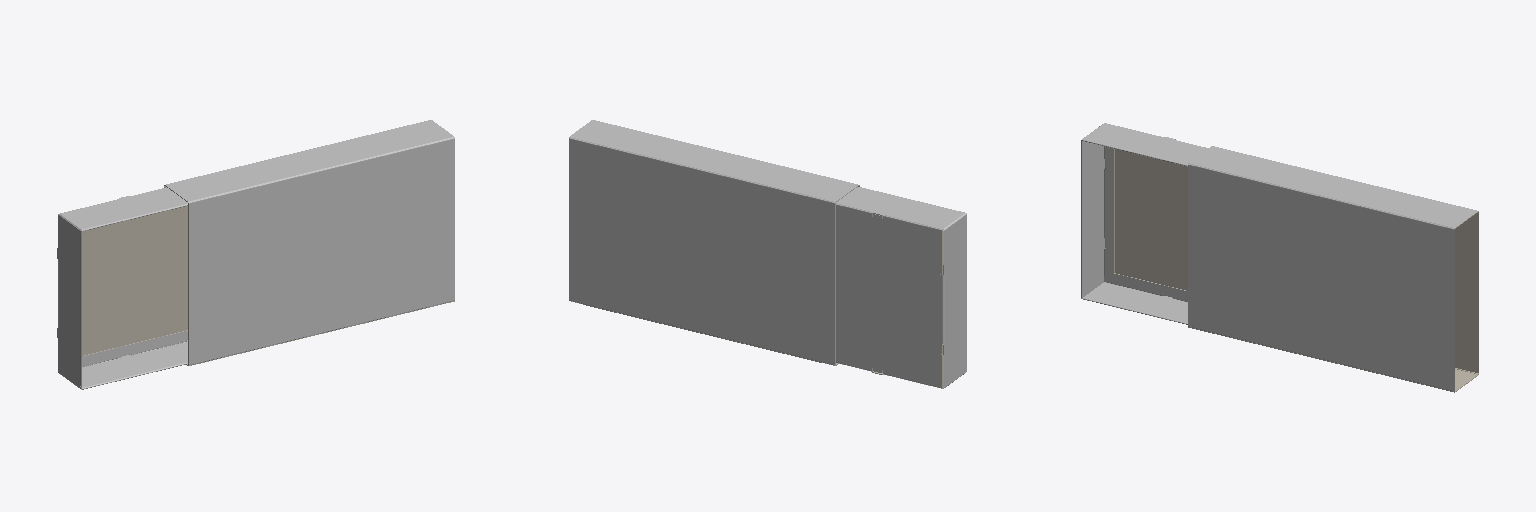
Rendered from COMIDA_SUSHI_RICARDO_RIVET.obj.
The picture shows the model from 3 angles: view 1: azimuth 30°, elevation 25°; view 2: azimuth 150°, elevation 25°; view 3: azimuth 330°, elevation 25°; orthographic projection.
Parts seen in each view (by area): view 1: Mesh61, Mesh2, Mesh58, Mesh43, Mesh19, Mesh37, Mesh40; view 2: Mesh52, Mesh, Mesh58, Mesh43, Mesh19; view 3: Mesh61, Mesh2, Mesh58, Mesh53, Mesh46, Mesh19, Mesh37, Mesh49, Mesh40.
Part boxes in pixels (bbox=[...]): Mesh61: bbox=[189, 138, 454, 364]; Mesh2: bbox=[82, 206, 187, 356]; Mesh58: bbox=[166, 120, 454, 202]; Mesh43: bbox=[57, 218, 81, 388]; Mesh19: bbox=[59, 187, 187, 230]; Mesh37: bbox=[81, 340, 187, 389]; Mesh40: bbox=[82, 331, 187, 366]; Mesh52: bbox=[569, 138, 834, 365]; Mesh: bbox=[836, 204, 943, 387]; Mesh58: bbox=[569, 120, 857, 202]; Mesh43: bbox=[944, 217, 966, 385]; Mesh19: bbox=[836, 187, 965, 229]; Mesh61: bbox=[1188, 164, 1454, 391]; Mesh2: bbox=[1105, 149, 1187, 297]; Mesh58: bbox=[1188, 146, 1477, 228]; Mesh53: bbox=[1455, 212, 1478, 373]; Mesh46: bbox=[1082, 141, 1104, 297]; Mesh19: bbox=[1082, 123, 1207, 165]; Mesh37: bbox=[1081, 282, 1187, 323]; Mesh49: bbox=[1104, 146, 1113, 276]; Mesh40: bbox=[1104, 273, 1187, 301].
Bounding box in the file's own units: 376 × 158 × 42.8.